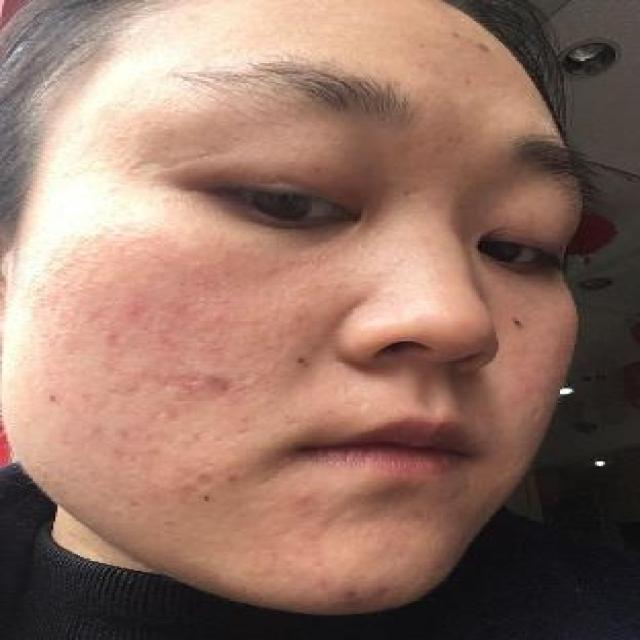acne: (193, 368, 240, 397), (288, 350, 316, 372), (108, 424, 144, 440), (504, 313, 536, 330), (142, 442, 166, 464), (106, 446, 130, 466)
darkspot: (198, 490, 218, 506)
